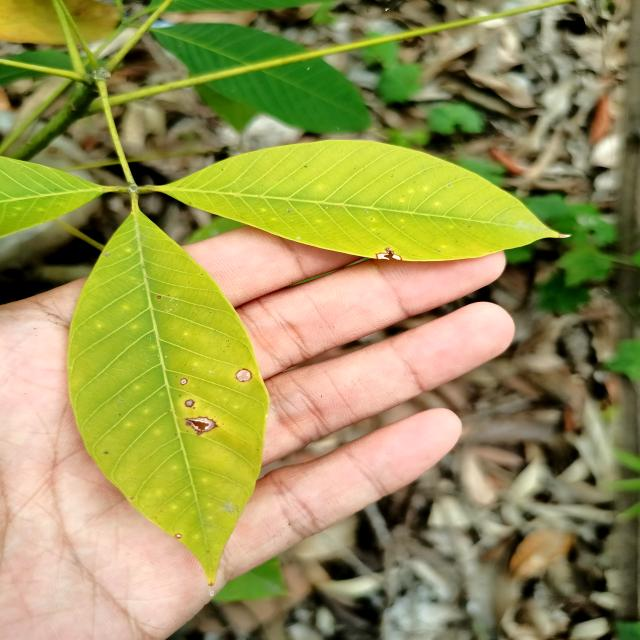Colletotrichum: (236, 368, 252, 382), (184, 399, 194, 408), (180, 378, 188, 385), (175, 534, 182, 538), (157, 296, 161, 299)
